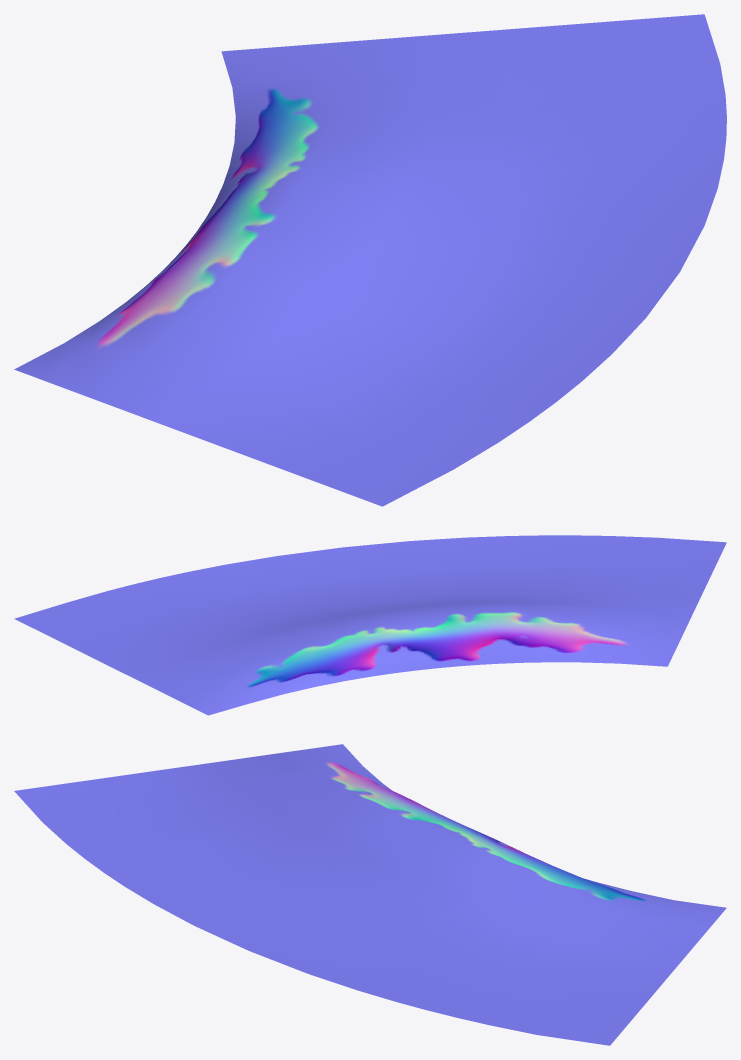
File: p_mesh_trashbot_windpushroar_groundgoo_quater.fbx
The picture shows the model from 3 angles, top to bottom: view 1: azimuth 30°, elevation 25°; view 2: azimuth 150°, elevation 25°; view 3: azimuth 270°, elevation 25°; orthographic projection. The views are drawn at different scales.
Visible parts, largest first — view 1: p_gooroar__; view 2: p_gooroar__; view 3: p_gooroar__.
Part boxes in pixels (<box>): p_gooroar__: <box>14,14,726,506</box>; p_gooroar__: <box>14,535,726,715</box>; p_gooroar__: <box>14,744,726,1045</box>.
Bounding box in the file's own units: 11.98 × 0.6614 × 11.9.
